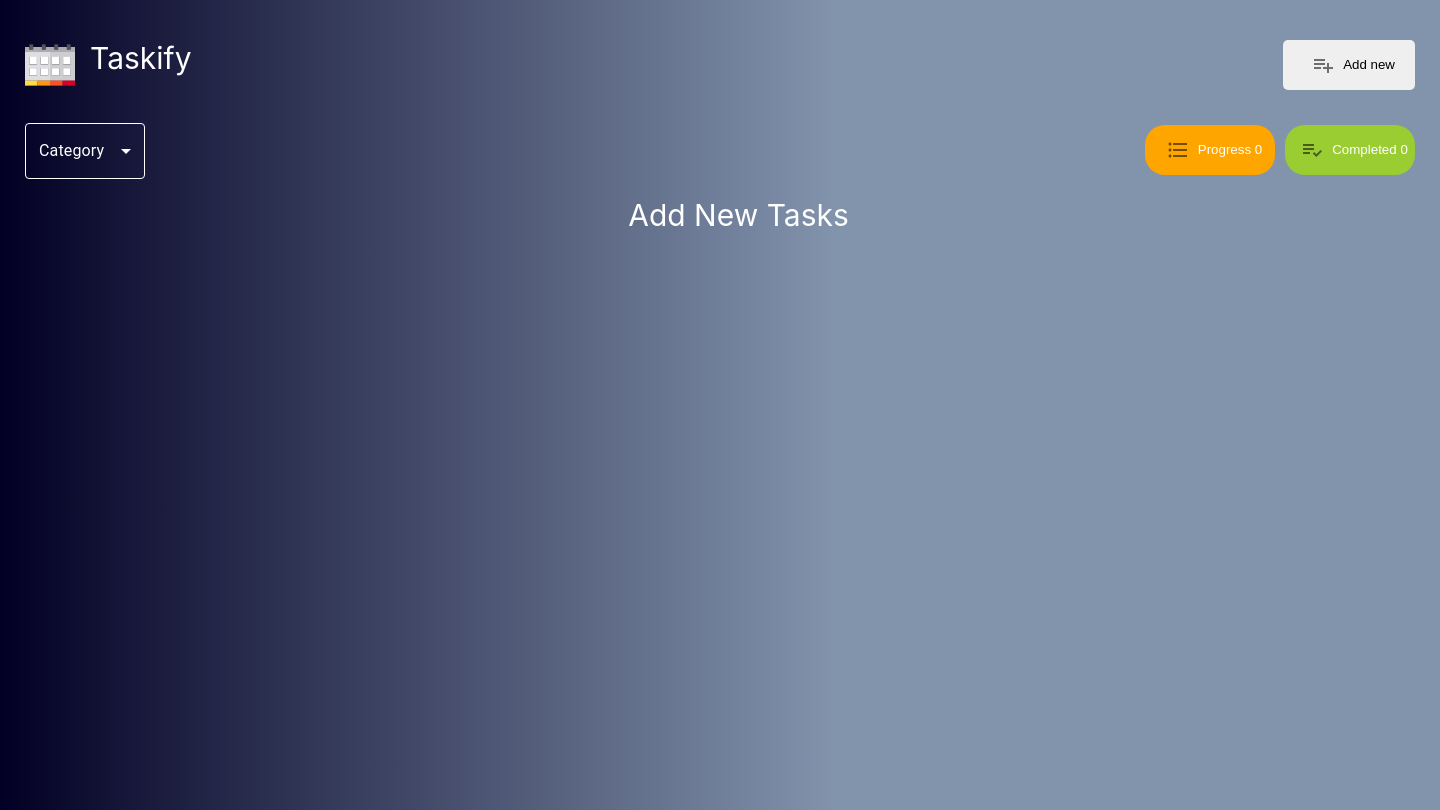
Ckeck the category for list of tasks is rendering or not
The width and height of the screenshot is (1440, 810).
Click the dropdown named "Category". click: point(85, 151)
box: [25, 123, 145, 179]
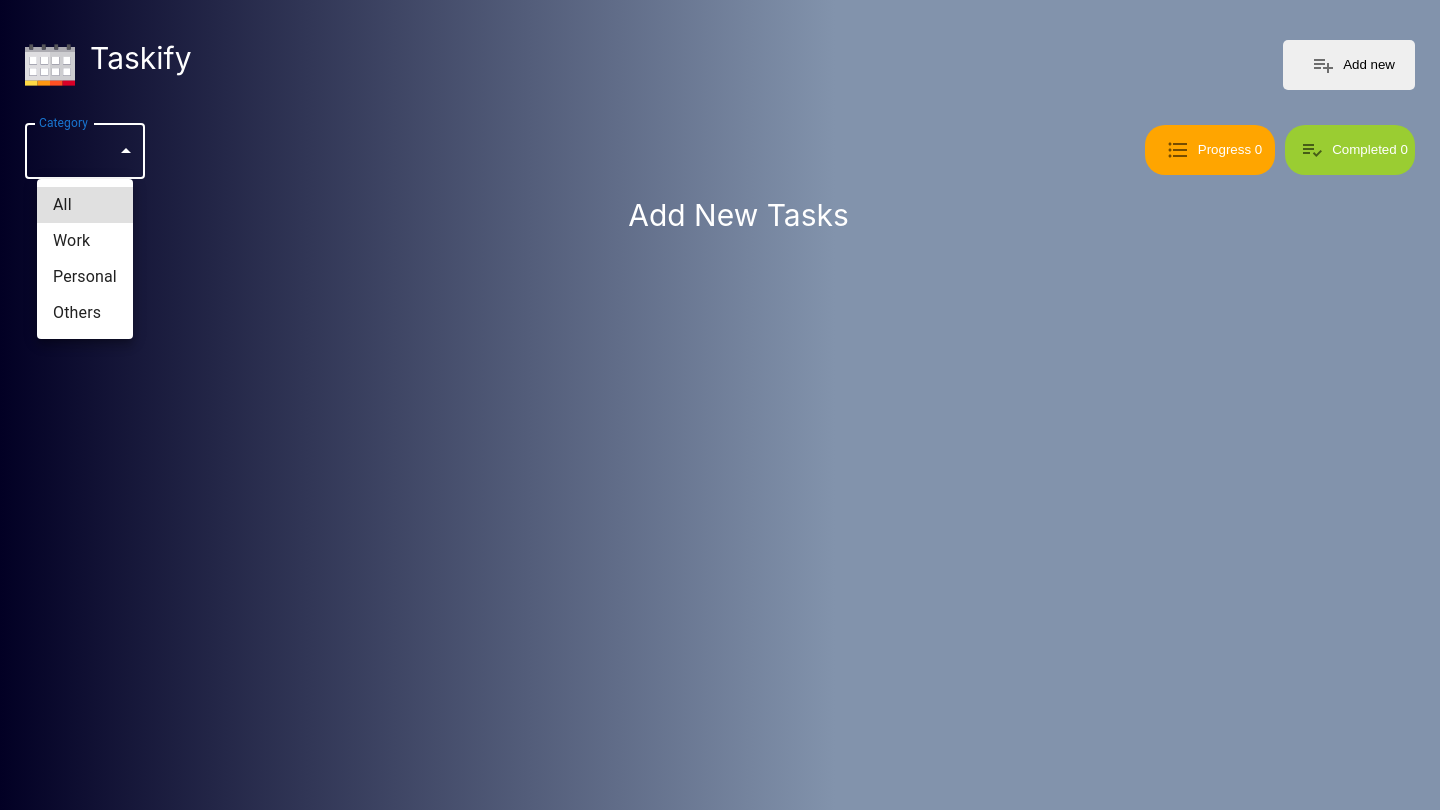
Expected: the option "Personal" is shown, [53, 267, 117, 286]
Expected: the option "Work" is shown, [53, 231, 90, 250]
Expected: the option "Others" is shown, [53, 303, 101, 322]
